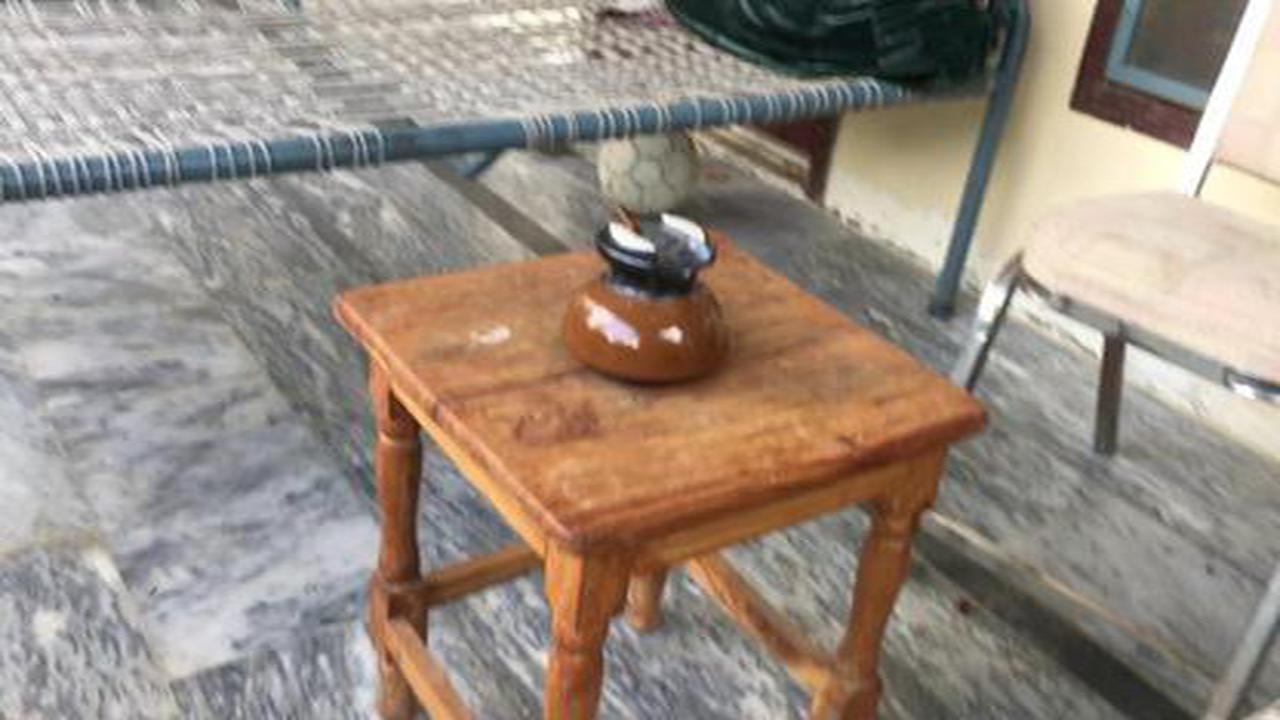insulator_pin: (533, 200, 751, 392)
